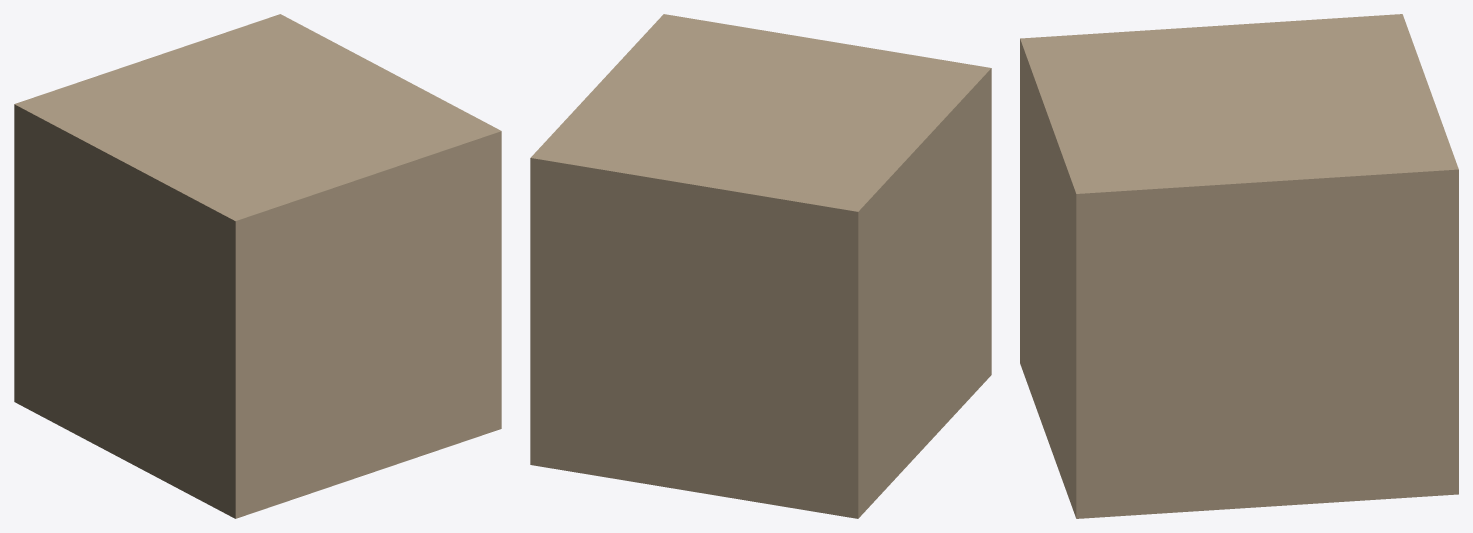
Rendered from bld_163484404.dae.
3 renders of one model, left to right at view 1: azimuth 30°, elevation 25°; view 2: azimuth 150°, elevation 25°; view 3: azimuth 270°, elevation 25°, orthographic. The views are drawn at different scales.
Parts seen in each view (by area): view 1: bld_163484404; view 2: bld_163484404; view 3: bld_163484404.
Boxes of the visible parts, <box> form: bld_163484404: <box>14,14,501,518</box>; bld_163484404: <box>530,14,991,518</box>; bld_163484404: <box>1020,14,1458,518</box>.
Size of the model in its own units: 9.51 by 9.79 by 8.
